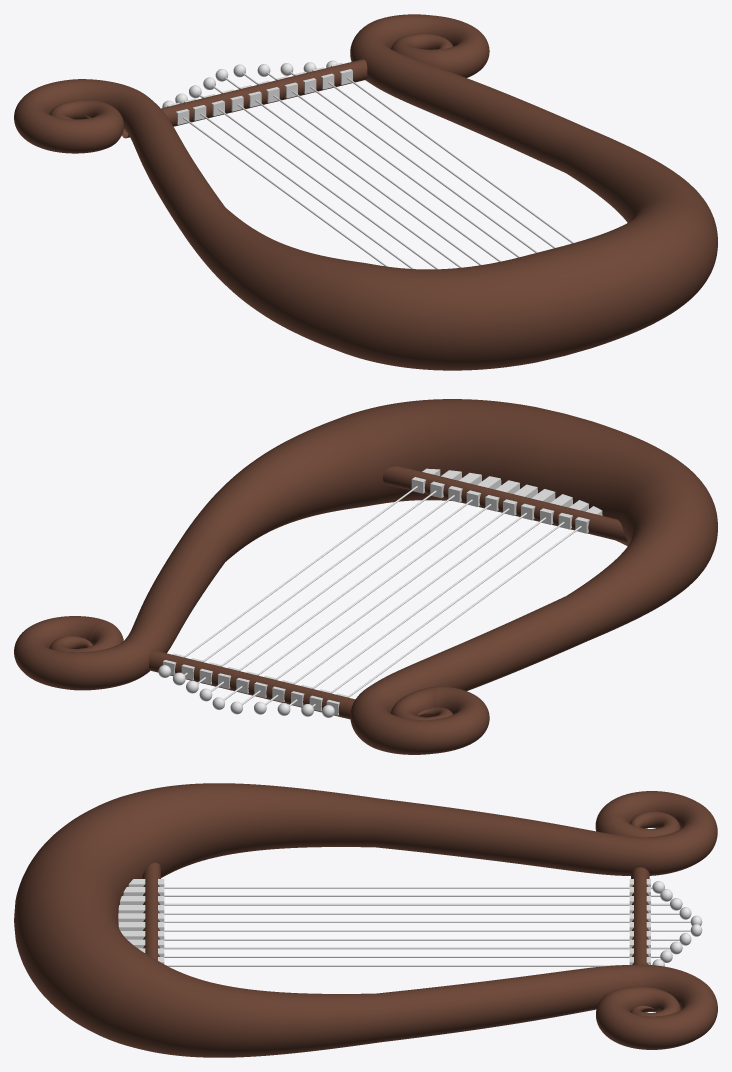
Rendered from Walnut Lyre.fbx.
3 views of the same model, one above another, from view 1: azimuth 30°, elevation 25°; view 2: azimuth 150°, elevation 25°; view 3: azimuth 270°, elevation 25° (orthographic). The views are drawn at different scales.
Parts seen in each view (by area): view 1: BezierCurve.001, Strings, Cylinder, Holders top, Round holders; view 2: BezierCurve.001, Strings, Holders bottom, Cylinder.001, Cylinder, Holders top, Round holders; view 3: BezierCurve.001, Strings, Holders bottom, Cylinder, Cylinder.001, Round holders, Holders top.
Boxes of the visible parts, left/top/right/bottom form: BezierCurve.001: left=14, top=14, right=717, bottom=370; Strings: left=183, top=71, right=573, bottom=269; Cylinder: left=122, top=59, right=367, bottom=138; Holders top: left=167, top=62, right=352, bottom=124; Round holders: left=162, top=60, right=337, bottom=107; BezierCurve.001: left=14, top=399, right=717, bottom=754; Strings: left=184, top=486, right=581, bottom=706; Holders bottom: left=411, top=468, right=602, bottom=533; Cylinder.001: left=382, top=466, right=627, bottom=543; Cylinder: left=149, top=650, right=355, bottom=719; Holders top: left=163, top=653, right=348, bottom=715; Round holders: left=158, top=665, right=334, bottom=717; BezierCurve.001: left=14, top=783, right=717, bottom=1057; Strings: left=164, top=887, right=690, bottom=966; Holders bottom: left=118, top=879, right=164, bottom=963; Cylinder: left=631, top=867, right=649, bottom=964; Cylinder.001: left=142, top=862, right=160, bottom=960; Round holders: left=652, top=881, right=702, bottom=966; Holders top: left=629, top=879, right=650, bottom=964.
Bounding box in the file's own units: 349 × 70.85 × 474.
